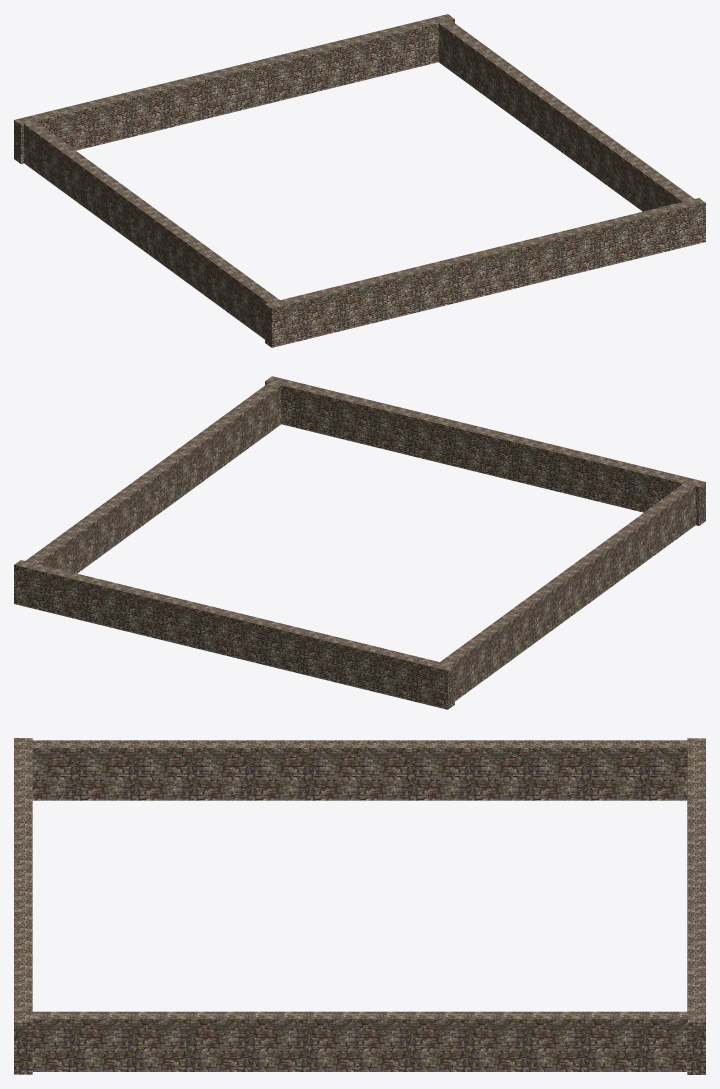
File: stoneWalls.DAE
3 renders of one model, top to bottom at view 1: azimuth 30°, elevation 25°; view 2: azimuth 150°, elevation 25°; view 3: azimuth 270°, elevation 25°, orthographic. The views are drawn at different scales.
Visible parts, largest first — view 1: wall_south, wall_north, wall_west, wall_east; view 2: wall_north, wall_south, wall_west, wall_east; view 3: wall_east, wall_west, wall_south, wall_north.
Part boxes in pixels (x1,y1,x2,y2): wall_south: (265,198,705,347); wall_north: (14,14,454,163); wall_west: (24,121,281,339); wall_east: (438,18,697,211); wall_north: (14,560,454,709); wall_south: (265,376,705,525); wall_west: (439,483,695,701); wall_east: (23,381,283,573); wall_east: (23,1011,695,1071); wall_west: (25,740,695,800); wall_south: (14,738,32,1074); wall_north: (687,738,705,1074).
Bounding box in the file's own units: 23.01 × 23.68 × 1.98.
Materials: 1 (1 with a texture image).
